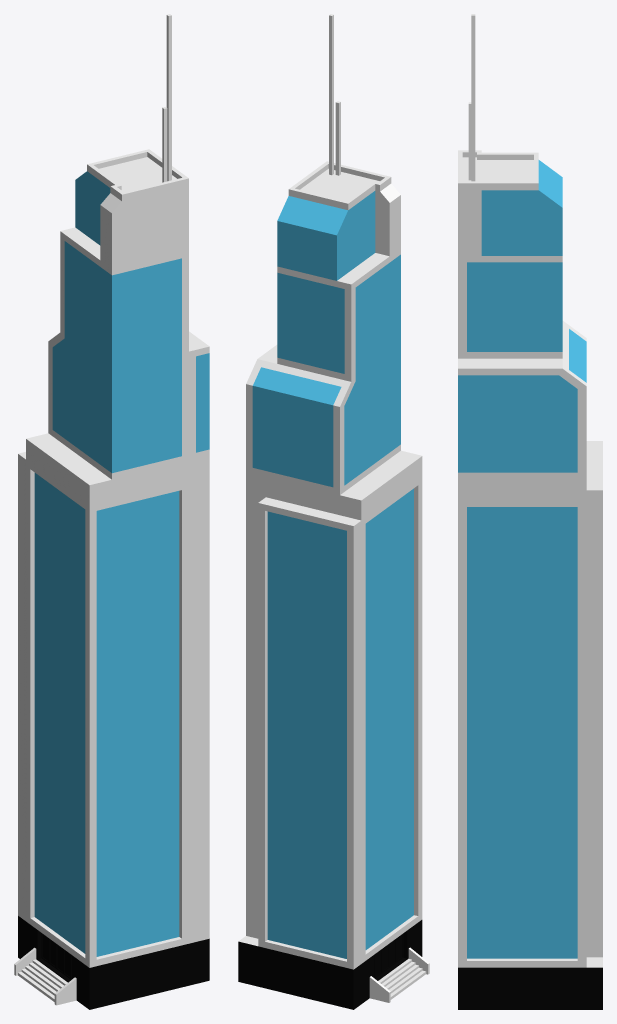
File: Skyscraper_11.fbx
3 views of the same model, side by side, from view 1: azimuth 30°, elevation 25°; view 2: azimuth 150°, elevation 25°; view 3: azimuth 270°, elevation 25° (orthographic). The views are drawn at different scales.
Visible parts, largest first — view 1: Skyscraper_11; view 2: Skyscraper_11; view 3: Skyscraper_11.
Boxes of the visible parts, <box> form: Skyscraper_11: <box>14,14,209,1009</box>; Skyscraper_11: <box>238,14,429,1009</box>; Skyscraper_11: <box>458,14,602,1009</box>.
Size of the model in its own units: 23.54 by 155 by 20.77.
